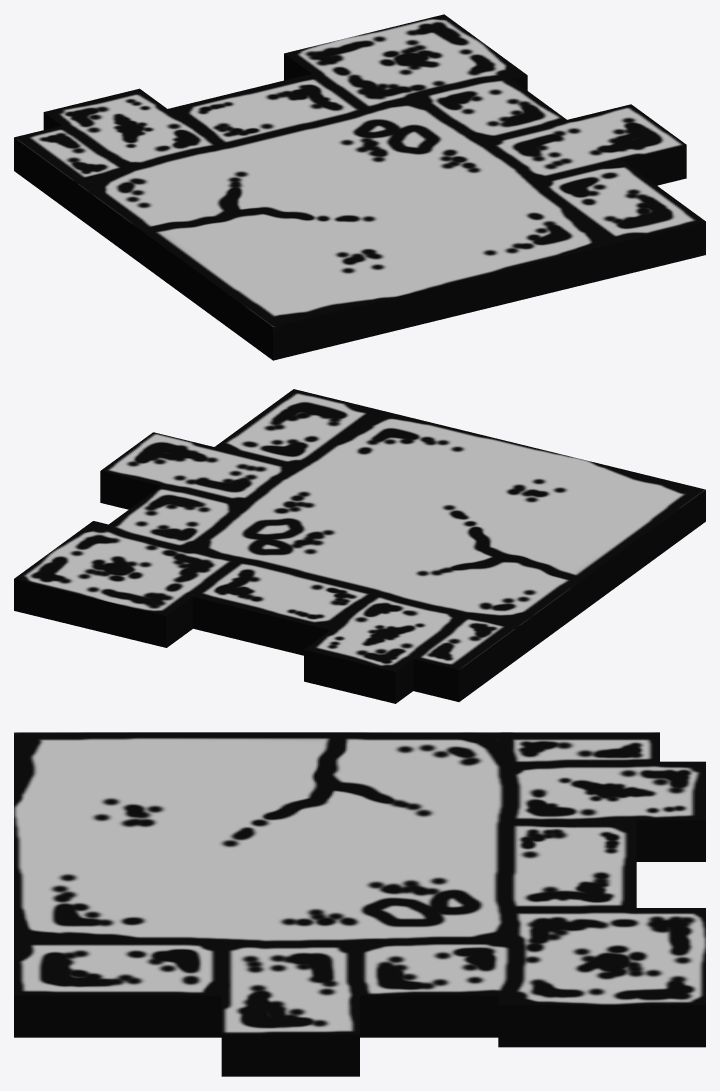
File: tile_corner.glb
3 renders of one model, top to bottom at view 1: azimuth 30°, elevation 25°; view 2: azimuth 150°, elevation 25°; view 3: azimuth 270°, elevation 25°, orthographic. The views are drawn at different scales.
Parts seen in each view (by area): view 1: Cube; view 2: Cube; view 3: Cube.
Boxes of the visible parts, bbox=[...] form: Cube: bbox=[14, 14, 705, 360]; Cube: bbox=[14, 389, 705, 703]; Cube: bbox=[14, 732, 705, 1076].
Size of the model in its own units: 3.1 by 0.2 by 3.
Materials: 1 (1 with a texture image).
